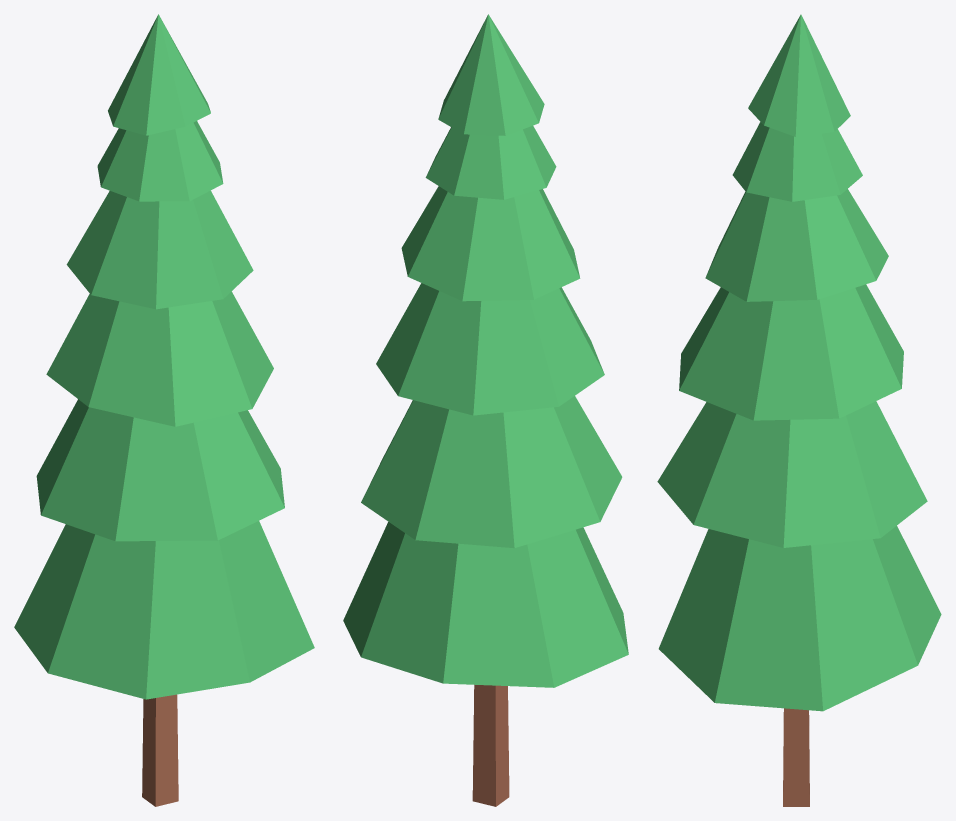
Rendered from pine2.fbx.
3 renders of one model, left to right at view 1: azimuth 30°, elevation 25°; view 2: azimuth 150°, elevation 25°; view 3: azimuth 270°, elevation 25°, orthographic.
Parts seen in each view (by area): view 1: Pine2.001; view 2: Pine2.001; view 3: Pine2.001.
Boxes of the visible parts, <box> form: Pine2.001: <box>14,14,314,806</box>; Pine2.001: <box>343,14,628,806</box>; Pine2.001: <box>657,14,941,806</box>.
Size of the model in its own units: 274 by 838 by 290.
